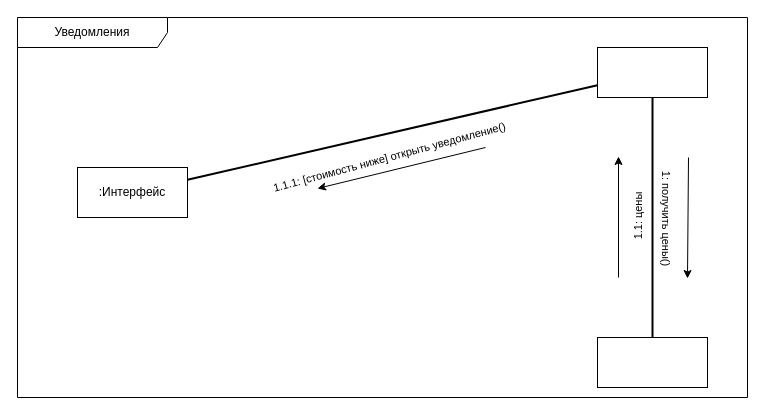
The diagram is 765 pixels wide and 415 high, and some of its shapes have lost their labels. The centre of each missing label's shape, as x and y in pixels:
":Сервер" goes at (652,362).
":Система" goes at (652,72).
